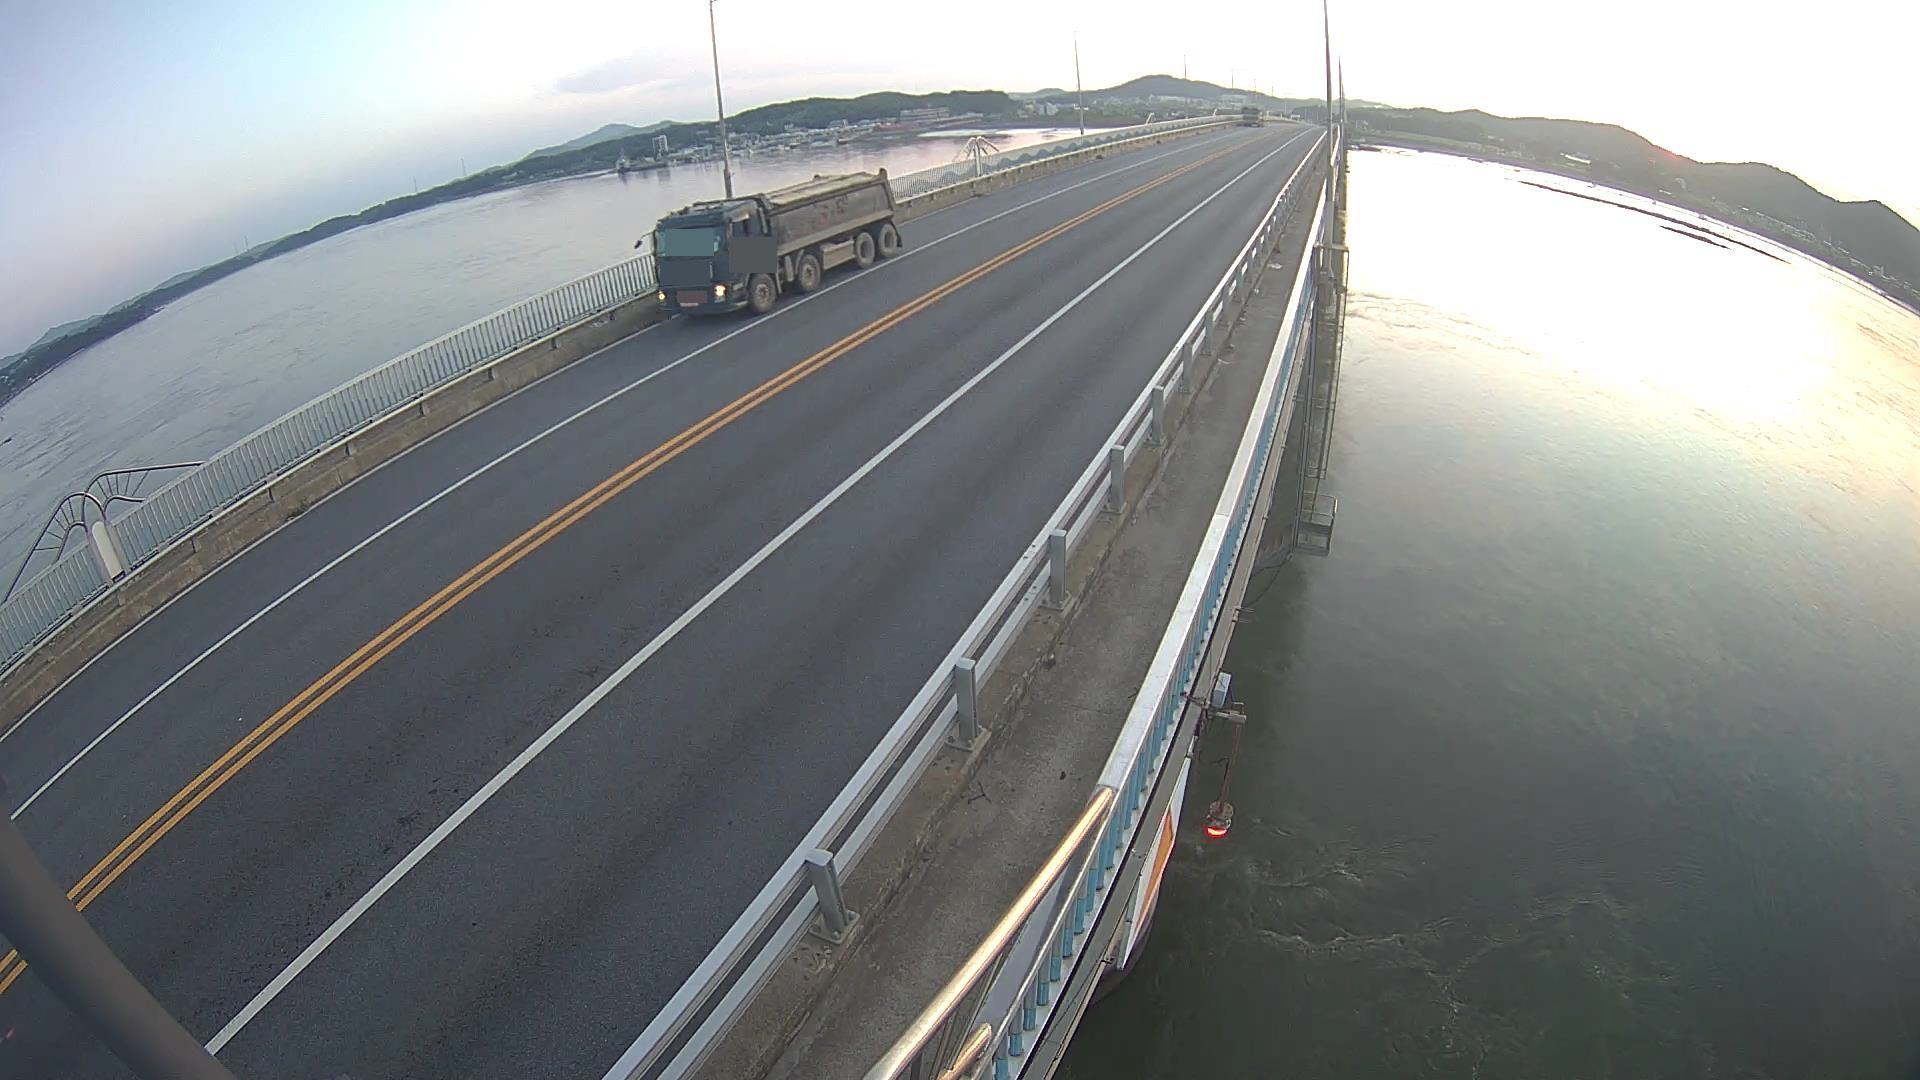정상차량: (634, 168, 903, 315)
